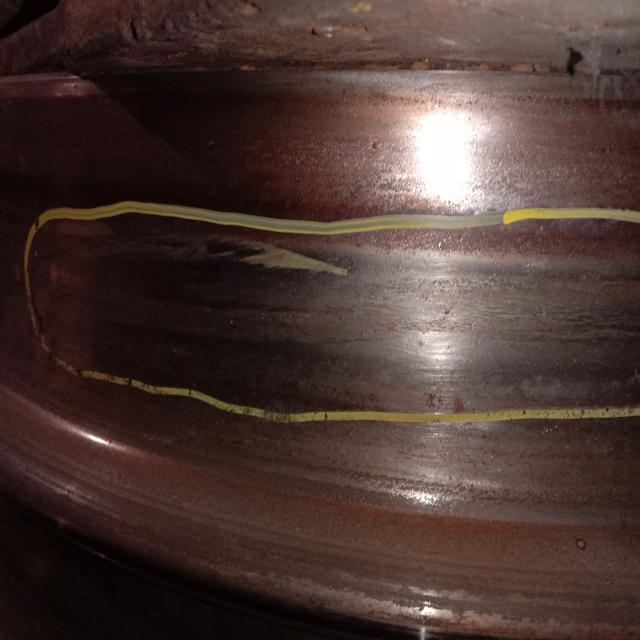flat: (67, 259, 640, 357)
